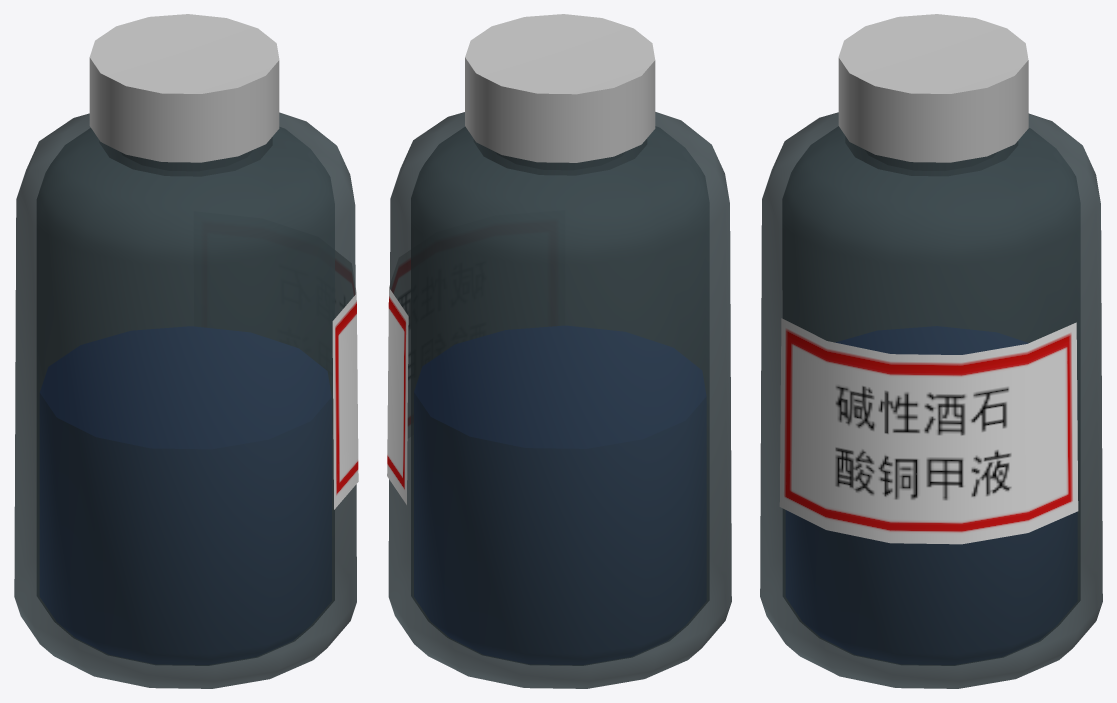
The model's file is SM_碱性酒石酸铜甲液.FBX.
The picture shows the model from 3 angles, left to right: view 1: azimuth 30°, elevation 25°; view 2: azimuth 150°, elevation 25°; view 3: azimuth 270°, elevation 25°; orthographic projection.
Parts seen in each view (by area): view 1: SM_碱性酒石酸铜甲液_瓶体, SM_碱性酒石酸铜甲液_盖子; view 2: SM_碱性酒石酸铜甲液_瓶体, SM_碱性酒石酸铜甲液_盖子; view 3: SM_碱性酒石酸铜甲液_瓶体, SM_碱性酒石酸铜甲液_盖子.
Part boxes in pixels (x1,y1,x2,y2): SM_碱性酒石酸铜甲液_瓶体: [14, 112, 358, 688]; SM_碱性酒石酸铜甲液_盖子: [89, 14, 279, 162]; SM_碱性酒石酸铜甲液_瓶体: [387, 112, 731, 688]; SM_碱性酒石酸铜甲液_盖子: [465, 14, 655, 162]; SM_碱性酒石酸铜甲液_瓶体: [760, 112, 1102, 688]; SM_碱性酒石酸铜甲液_盖子: [838, 14, 1028, 162].
Bounding box in the file's own units: 46.99 × 87.24 × 46.85.
